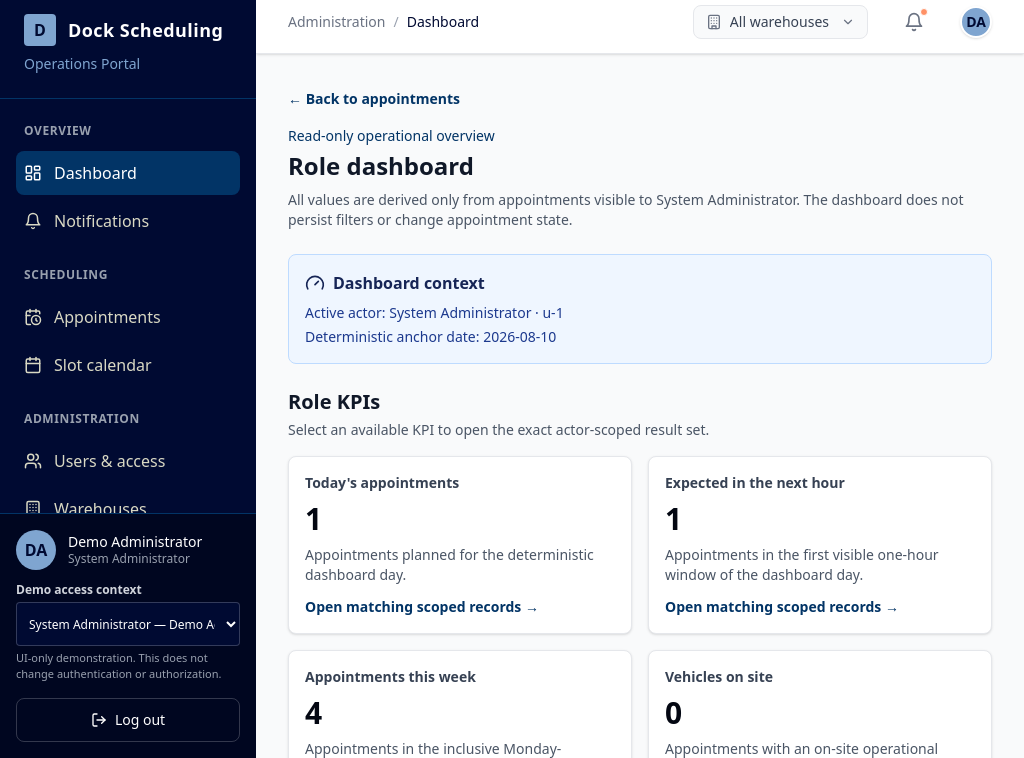
dashboard AppRoutes integration › keeps /dashboard available and scoped for Supplier after actor change
The image size is (1024, 758).
Expected: the text "Active actor: System Administrator · u-1" is shown, [305, 303, 564, 322]
Select "Supplier User — Grace Vistula" in the dropdown labelled "Demo access context": (128, 624) [16, 602, 240, 646]
(page scrolled)
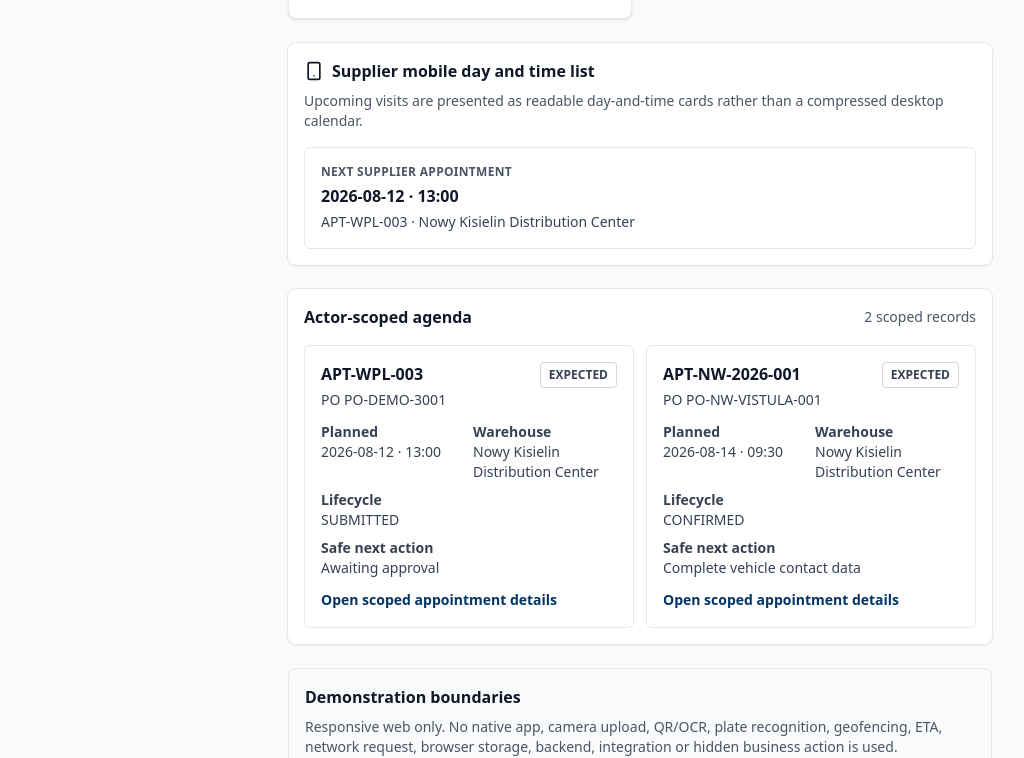
Expected: the heading "APT-WPL-003" is shown, [321, 363, 423, 385]
Expected: the heading "Supplier mobile day and time list" is shown, [304, 60, 595, 82]
